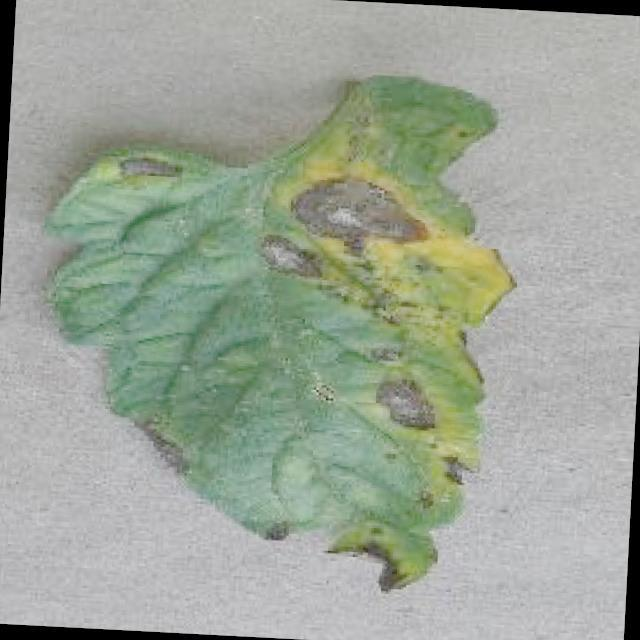Tomato Early blight leaf: (26, 62, 522, 602)
